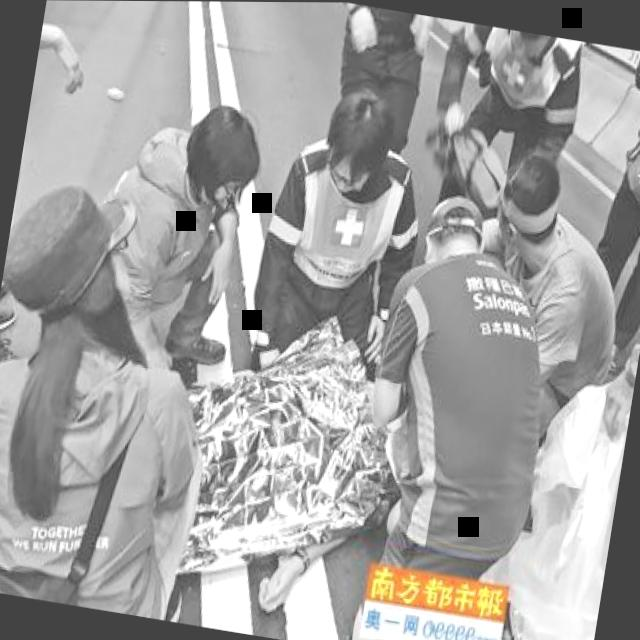Fall-Detected: (175, 290, 418, 625)
